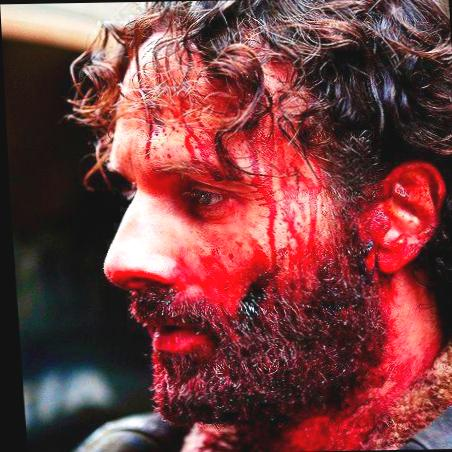Fire: (101, 51, 444, 452)
